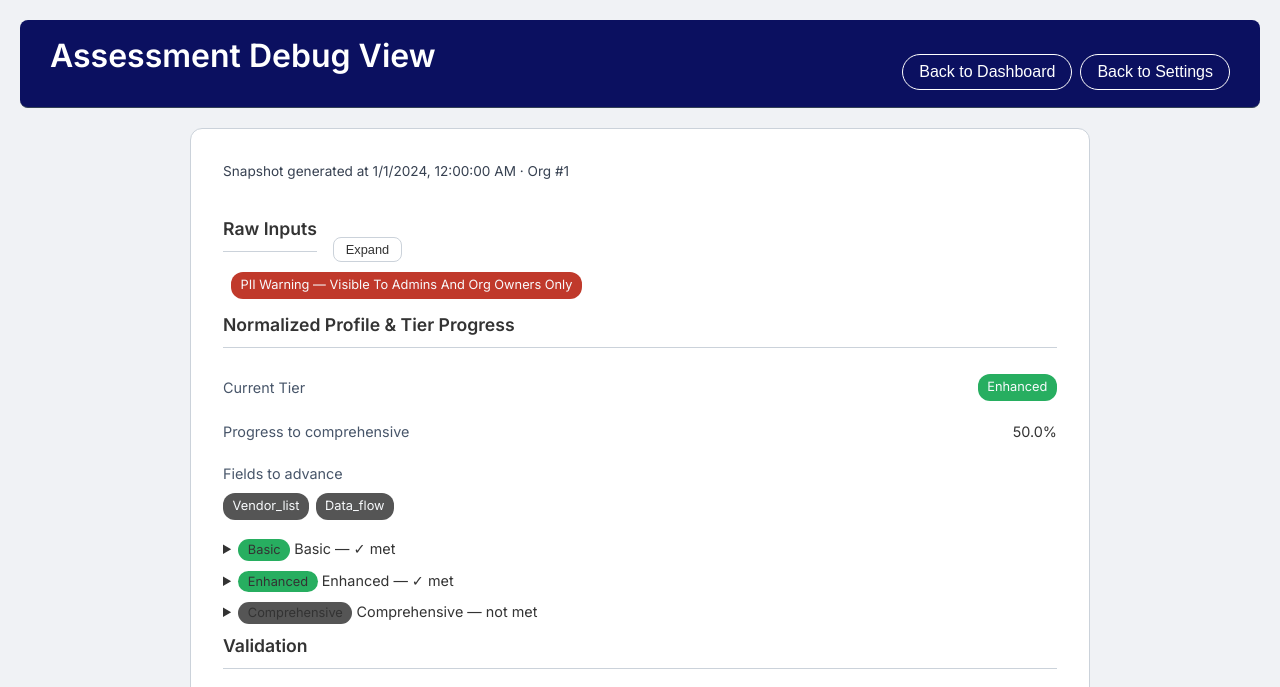
AssessmentDebugPage › Tier Status Display › shows unmet requirements with x mark
Check: the heading "basic Basic — ✓ met" is shown, box [238, 539, 395, 561]
Click the heading "comprehensive Comprehensive — not met": point(388, 613) [238, 602, 537, 624]
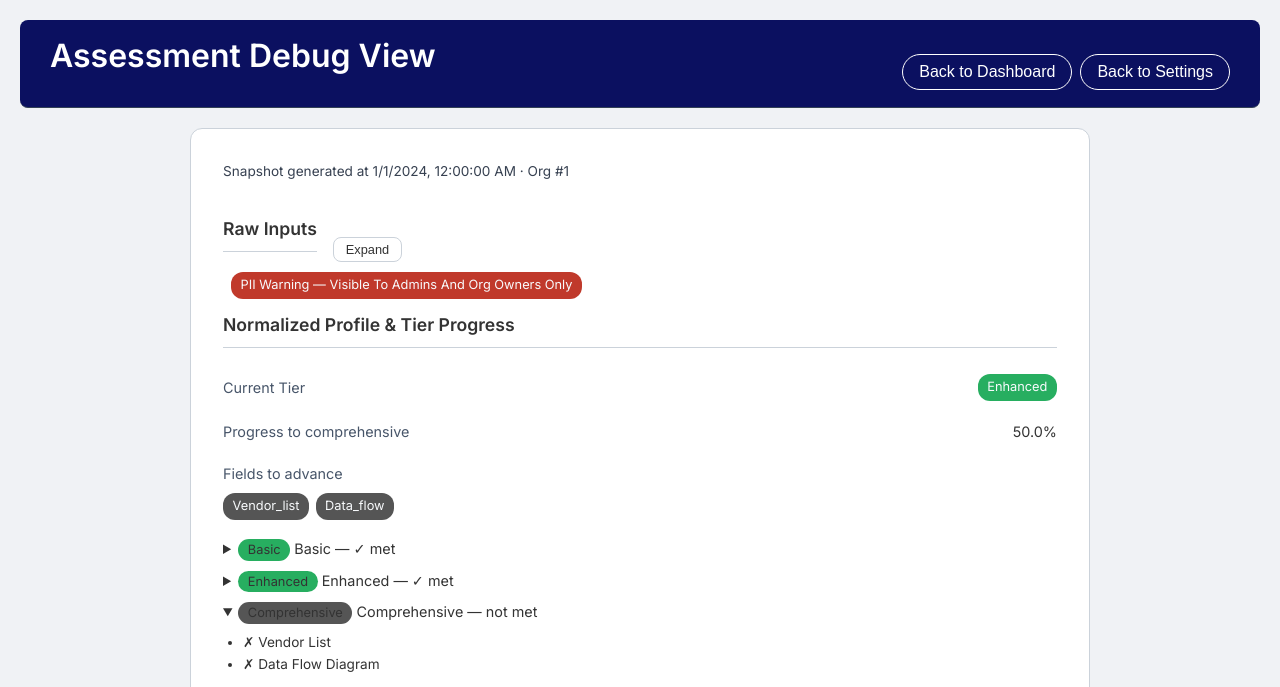
Check: the list item "✗ Vendor List" is shown, box [243, 634, 331, 650]
